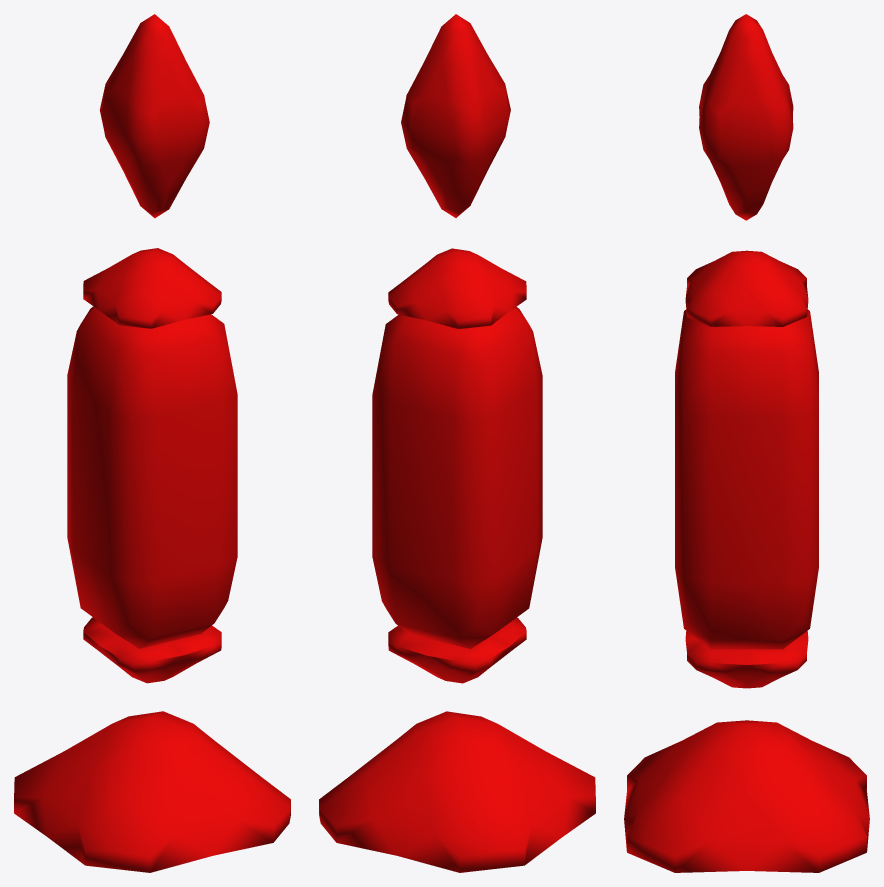
File: reinaRedonda001.fbx
3 views of the same model, side by side, from view 1: azimuth 30°, elevation 25°; view 2: azimuth 150°, elevation 25°; view 3: azimuth 270°, elevation 25° (orthographic).
Visible parts, largest first — view 1: reinaRedonda; view 2: reinaRedonda; view 3: reinaRedonda.
Part boxes in pixels (x1,y1,x2,y2): reinaRedonda: (14, 14, 290, 872); reinaRedonda: (319, 14, 595, 872); reinaRedonda: (624, 14, 869, 872).
Bounding box in the file's own units: 56.32 × 206 × 56.32.
